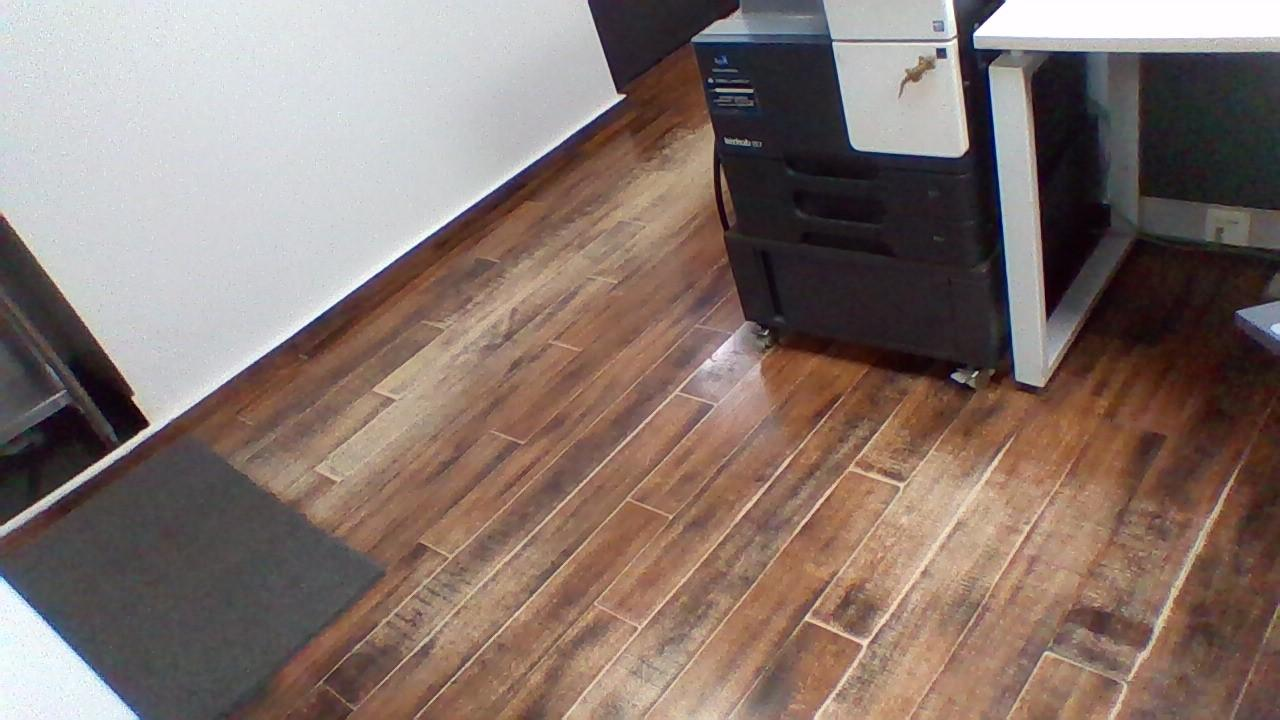lizard: (897, 46, 938, 102)
